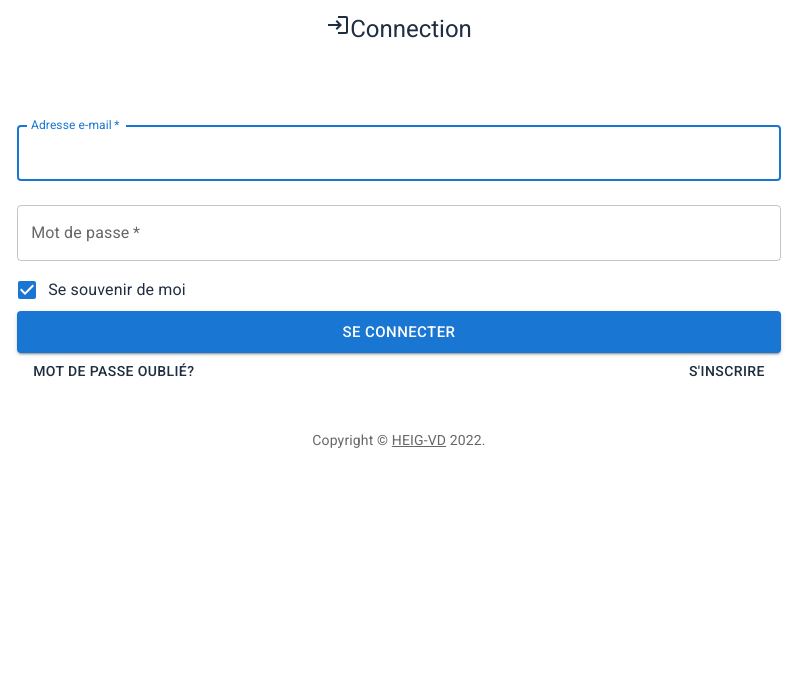
Test case: Signin Component › Signin Component | Submit Credentials
Click the button "Se connecter".
click(399, 332)  # box [17,311,781,353]
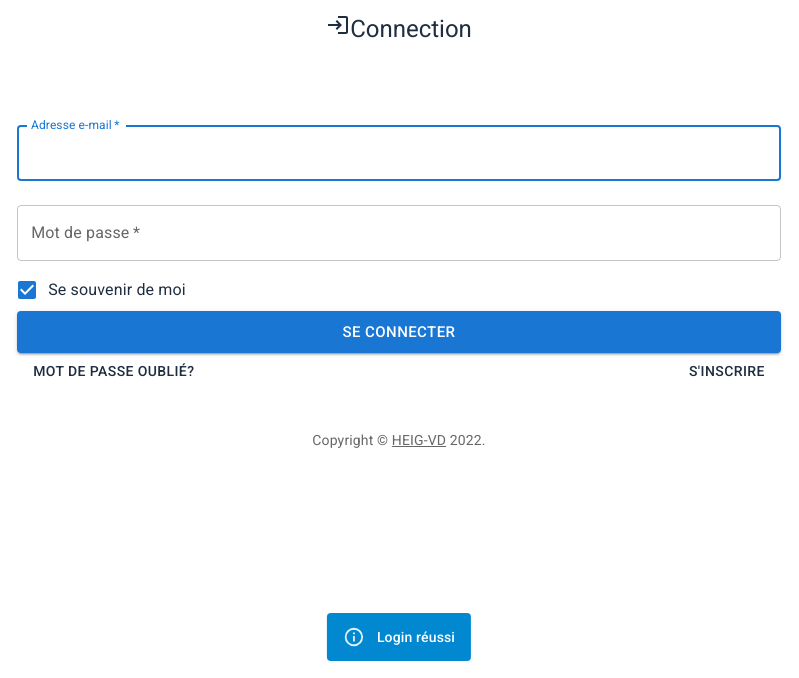
Expected: the text "Login réussi" is shown, [377,629,455,645]
